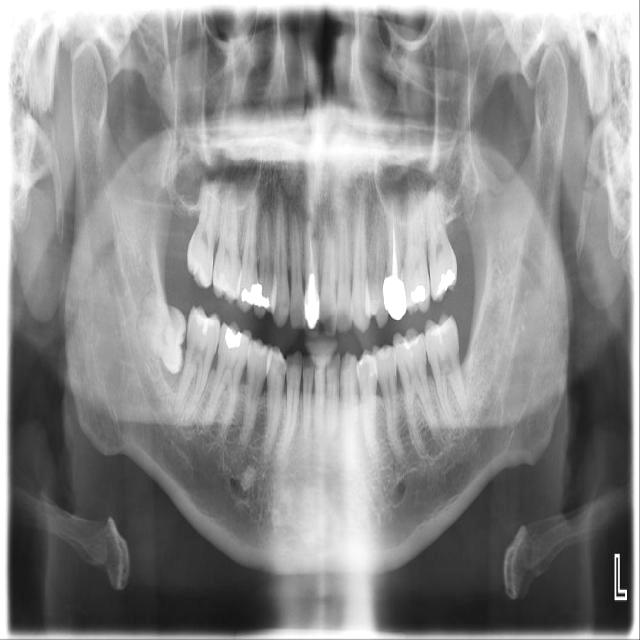Crown: (383, 276, 406, 320), (304, 285, 323, 330)
Filling: (240, 283, 272, 309), (196, 309, 217, 335), (438, 268, 456, 292), (408, 284, 428, 305), (225, 327, 241, 348), (366, 353, 377, 375)
Periapical lesion: (427, 427, 449, 451), (240, 464, 256, 491), (182, 416, 196, 432), (449, 427, 460, 438), (419, 446, 427, 456)
Root Canal Treatment: (392, 218, 399, 279), (310, 240, 314, 274)
impacted tooth: (135, 297, 186, 369)
